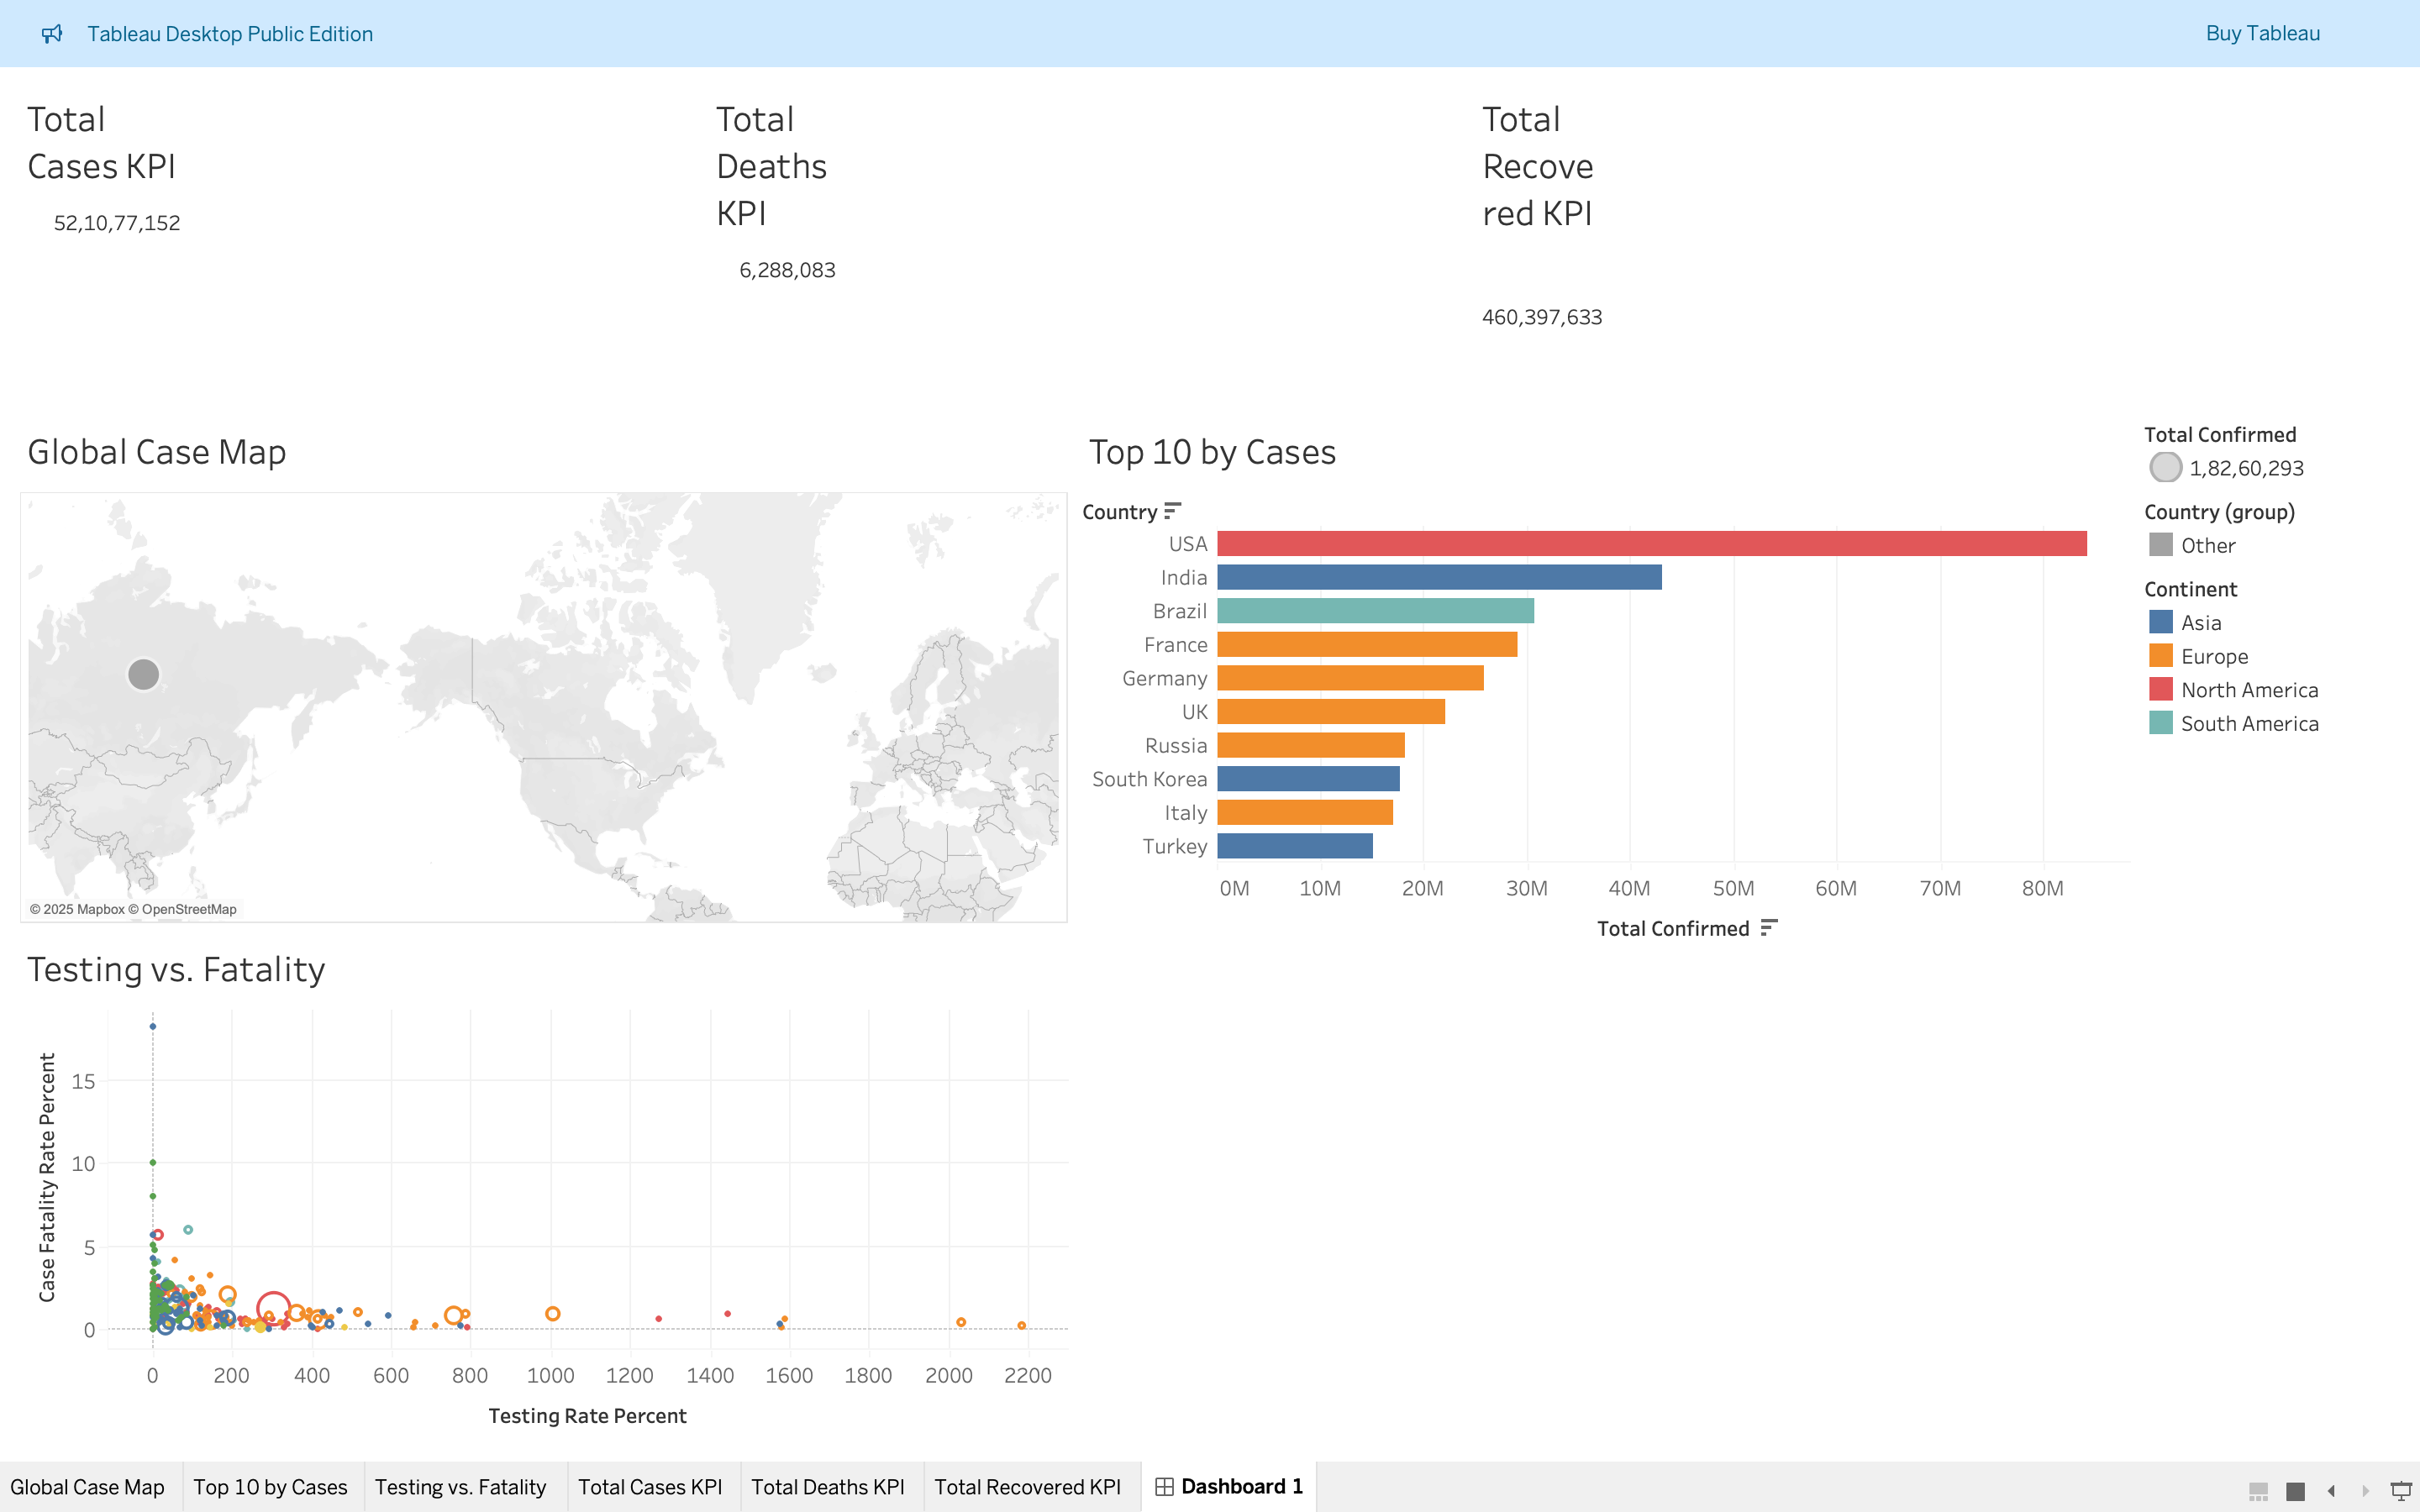

This screenshot's page, from the dashboard's own definition file:
{"tool":"tableau","page":{"name":"Dashboard 1","canvas":[1000,1000],"units":"permille","ordinal":0},"visuals":[{"type":"worksheet","title":"Total Cases KPI","mark":"Automatic","box":[6.5,12.6,284.4,236.6]},{"type":"worksheet","title":"Total Deaths KPI","mark":"Automatic","box":[290.9,12.6,316.1,236.6]},{"type":"worksheet","title":"Total Recovered KPI","mark":"Automatic","box":[607,12.6,386.6,236.6]},{"type":"worksheet","title":"Global Case Map","mark":"Automatic","box":[6.5,249.2,428.7,369.1]},{"type":"worksheet","title":"Top 10 by Cases","mark":"Automatic","rows":["country"],"cols":["total_confirmed"],"box":[435.2,249.2,428.7,738.2]},{"type":"legend","title":"Global Case Map","param":"[federated.165upem08lb4vl15voq621d5fliy].[sum:total_confirmed:qk]","box":[863.9,249.2,129.7,72.6]},{"type":"legend","title":"Global Case Map","param":"[federated.165upem08lb4vl15voq621d5fliy].[Country (group)]","box":[863.9,321.8,129.7,72.6]},{"type":"legend","title":"Top 10 by Cases","param":"[federated.165upem08lb4vl15voq621d5fliy].[none:continent:nk]","box":[863.9,394.3,129.7,167.2]},{"type":"worksheet","title":"Testing vs. Fatality","mark":"Automatic","rows":["Case_Fatality_Rate_Percent"],"cols":["Testing_Rate_Percent"],"box":[6.5,618.3,428.7,369.1]}]}

Visuals, with their boxes on the dashboard's canvas, which has no fixed pixel size, in thousandths of its width and height (x1, y1, x2, y2). These are canvas units, not pixel positions in the 2420x1512 screenshot, which may show the page scaled, cropped or inside an application window:
"Total Cases KPI" worksheet: <bbox>6, 13, 291, 249</bbox>
"Total Deaths KPI" worksheet: <bbox>291, 13, 607, 249</bbox>
"Total Recovered KPI" worksheet: <bbox>607, 13, 994, 249</bbox>
"Global Case Map" worksheet: <bbox>6, 249, 435, 618</bbox>
"Top 10 by Cases" worksheet: <bbox>435, 249, 864, 987</bbox>
"Global Case Map" legend: <bbox>864, 249, 994, 322</bbox>
"Global Case Map" legend: <bbox>864, 322, 994, 394</bbox>
"Top 10 by Cases" legend: <bbox>864, 394, 994, 562</bbox>
"Testing vs. Fatality" worksheet: <bbox>6, 618, 435, 987</bbox>
